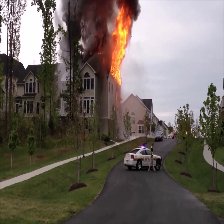fire: (110, 9, 129, 83)
smoke: (62, 0, 108, 64)
